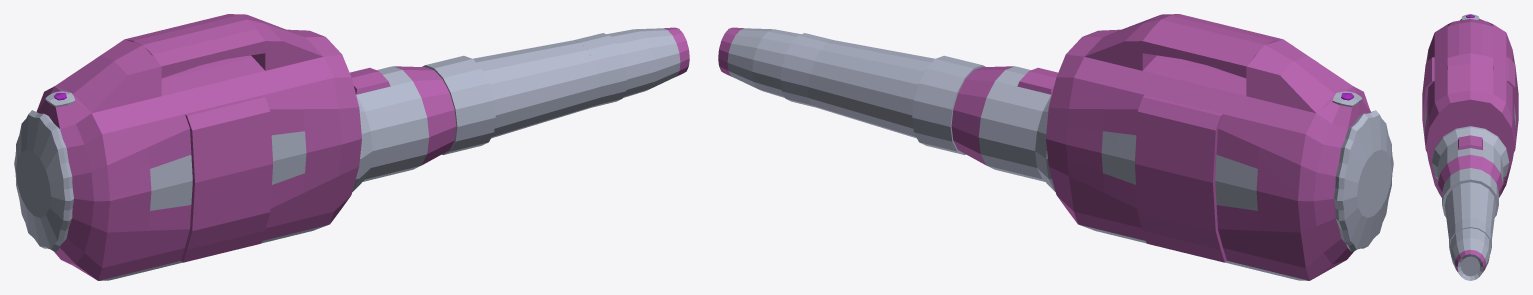
Rendered from vacuum02.fbx.
The picture shows the model from 3 angles, left to right: view 1: azimuth 30°, elevation 25°; view 2: azimuth 150°, elevation 25°; view 3: azimuth 270°, elevation 25°; orthographic projection. The views are drawn at different scales.
Visible parts, largest first — view 1: Wind Gun; view 2: Wind Gun; view 3: Wind Gun.
Part boxes in pixels (x1,y1,x2,y2): Wind Gun: (14,14,689,280); Wind Gun: (718,14,1393,280); Wind Gun: (1422,14,1518,280).
Bounding box in the file's own units: 47.95 × 14.81 × 10.07.
